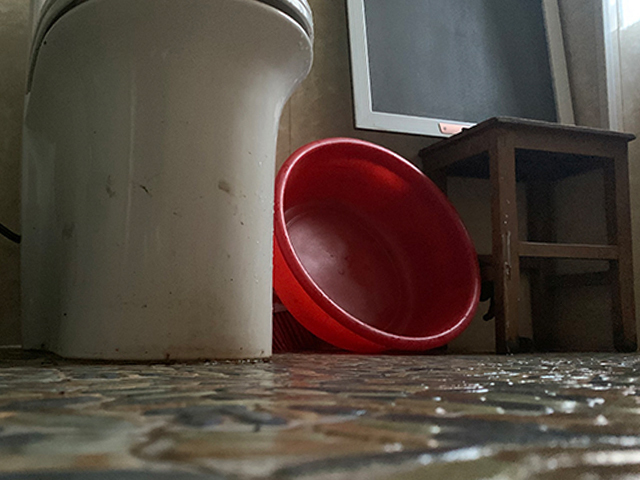closestool: (15, 1, 316, 364)
stool: (420, 116, 640, 356)
